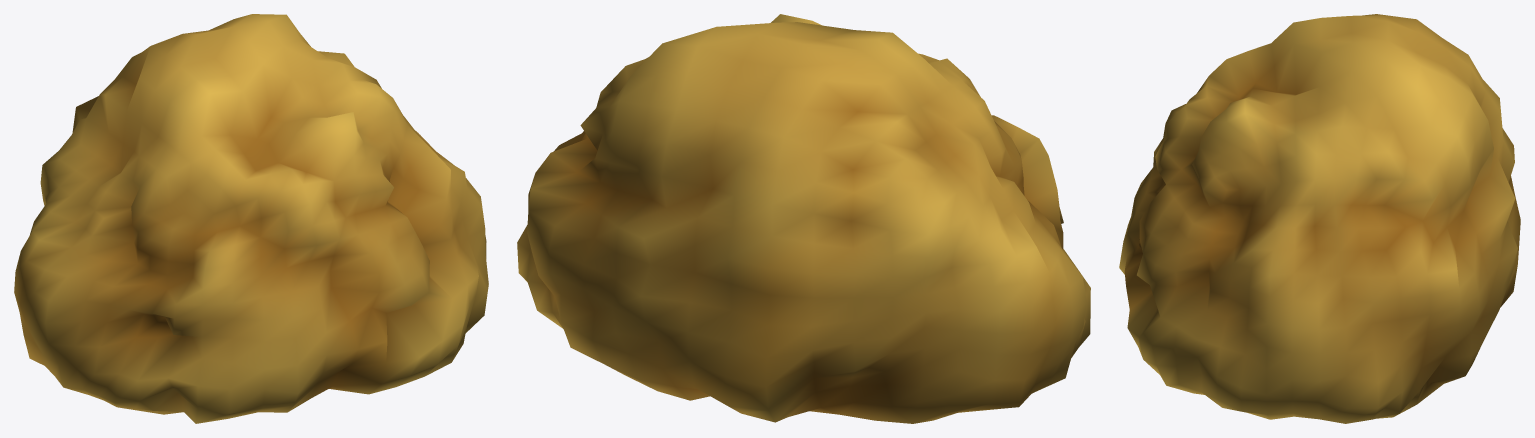
Rendered from tartar_c.glb.
3 renders of one model, left to right at view 1: azimuth 30°, elevation 25°; view 2: azimuth 150°, elevation 25°; view 3: azimuth 270°, elevation 25°, orthographic. The views are drawn at different scales.
Parts seen in each view (by area): view 1: tartar_c; view 2: tartar_c; view 3: tartar_c.
Part boxes in pixels (x1,y1,x2,y2): tartar_c: [14, 14, 488, 423]; tartar_c: [517, 14, 1090, 423]; tartar_c: [1119, 14, 1520, 423].
Bounding box in the file's own units: 0.34 × 0.2169 × 0.26.
